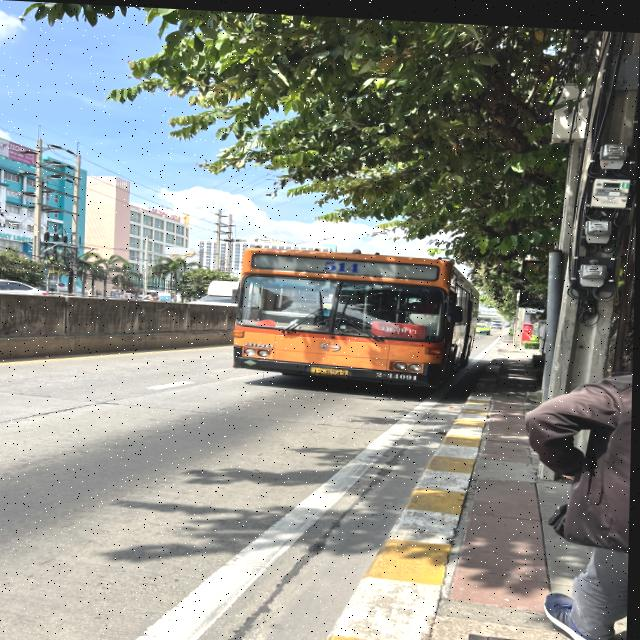BMTA-bus: (234, 241, 478, 390)
Bus Line Number: (319, 257, 366, 271)
Bus Side Number: (374, 367, 420, 377)
Destination Sign: (376, 317, 429, 335)
